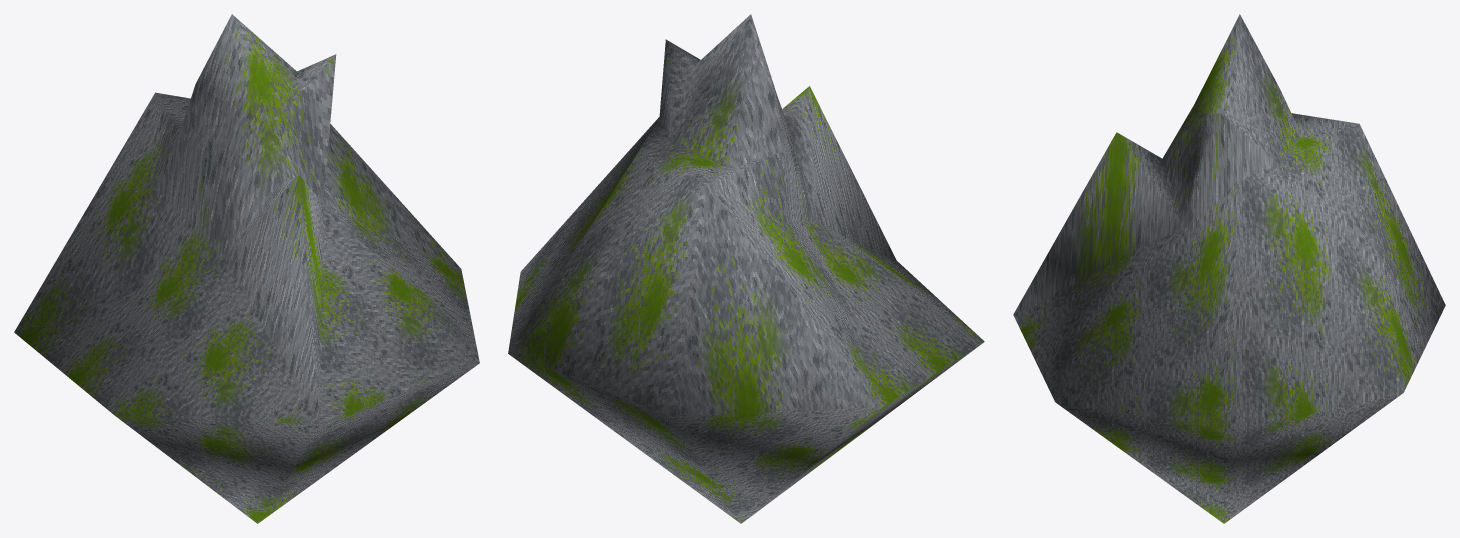
The model's file is rock06.obj.
3 views of the same model, side by side, from view 1: azimuth 30°, elevation 25°; view 2: azimuth 150°, elevation 25°; view 3: azimuth 270°, elevation 25° (orthographic). The views are drawn at different scales.
Visible parts, largest first — view 1: Cylinder01; view 2: Cylinder01; view 3: Cylinder01.
Part boxes in pixels (x1,y1,x2,y2): Cylinder01: (14, 14, 479, 523); Cylinder01: (508, 14, 984, 523); Cylinder01: (1013, 14, 1445, 523).
Bounding box in the file's own units: 220 × 267 × 208.
